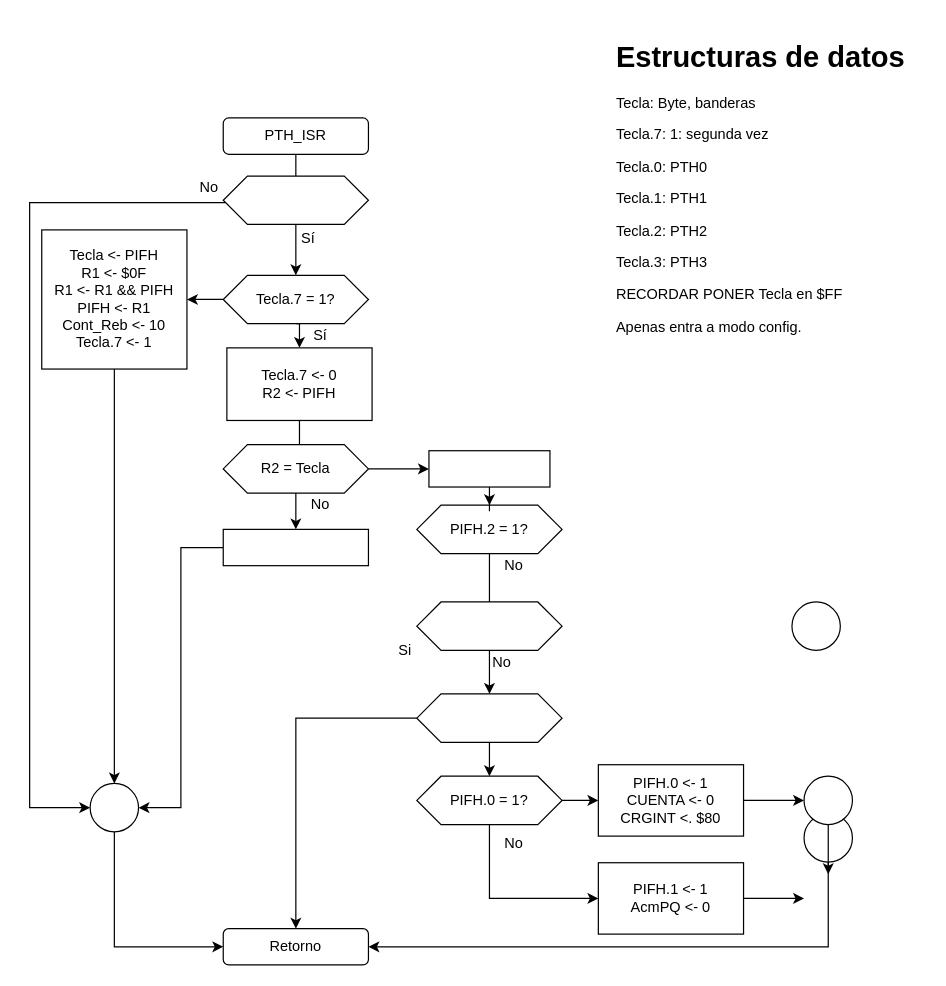
This 946x986 diagram has some shape labels left out. The shapes that lost their labels are listed below. From the top down, each one's centre as x and y in pixels, then its label:
At [295,199]: "Cont_Reb = 0".
At [489,468]: "R1 <- BRILLO".
At [295,547]: "Tecla <- $FF".
At [489,625]: "PIFH.3 = 1?".
At [489,717]: "Banderas.3 = 1".
